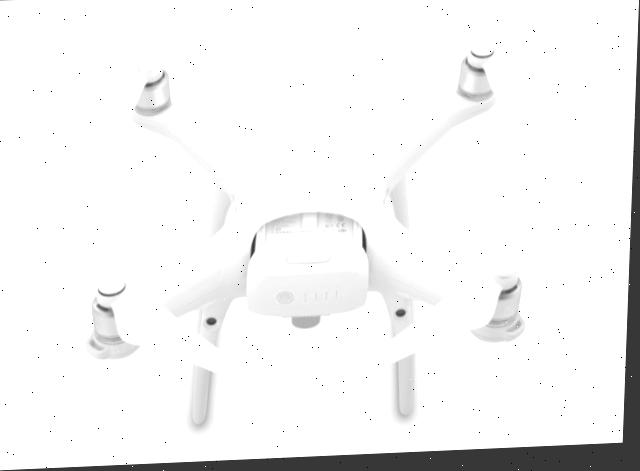drone: (0, 11, 639, 471)
